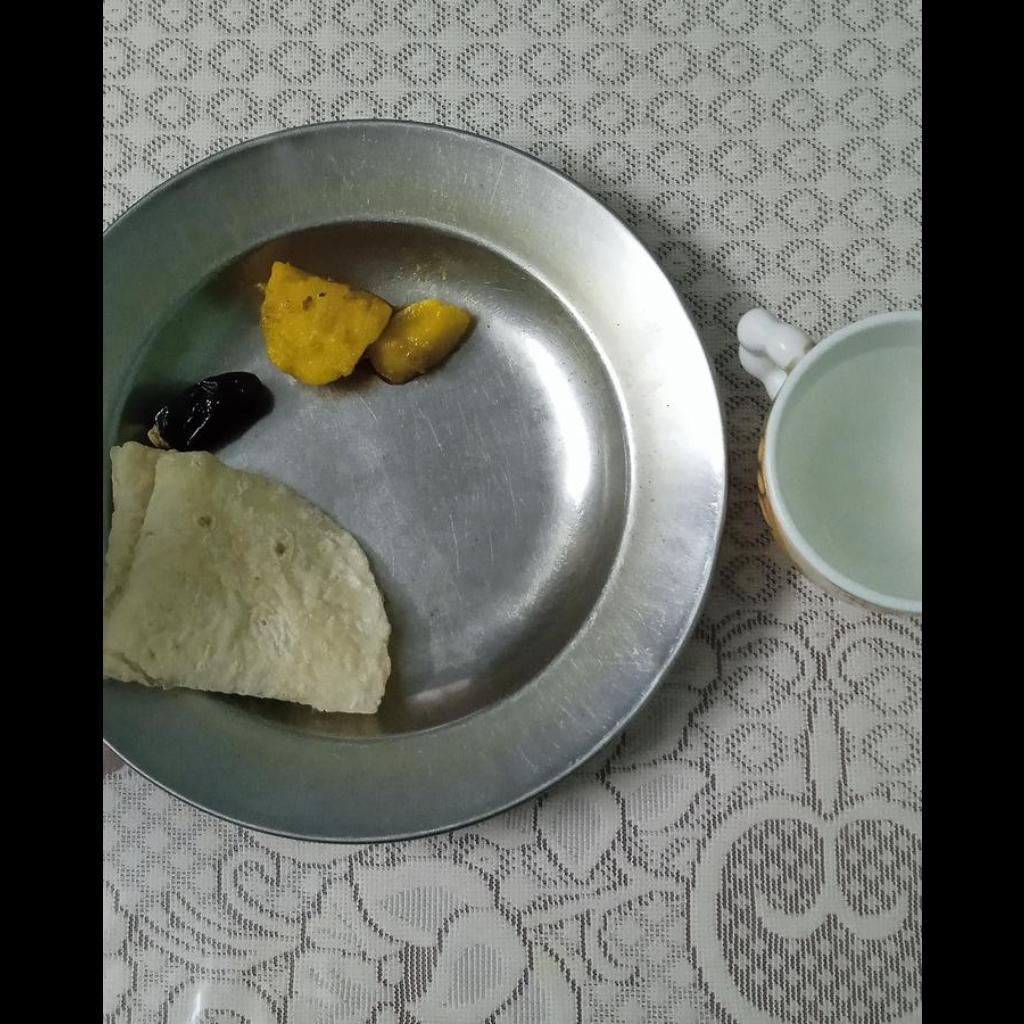dates: (155, 374, 280, 447), (119, 381, 187, 441)
potato: (259, 262, 472, 385)
ruti: (107, 451, 402, 719)
